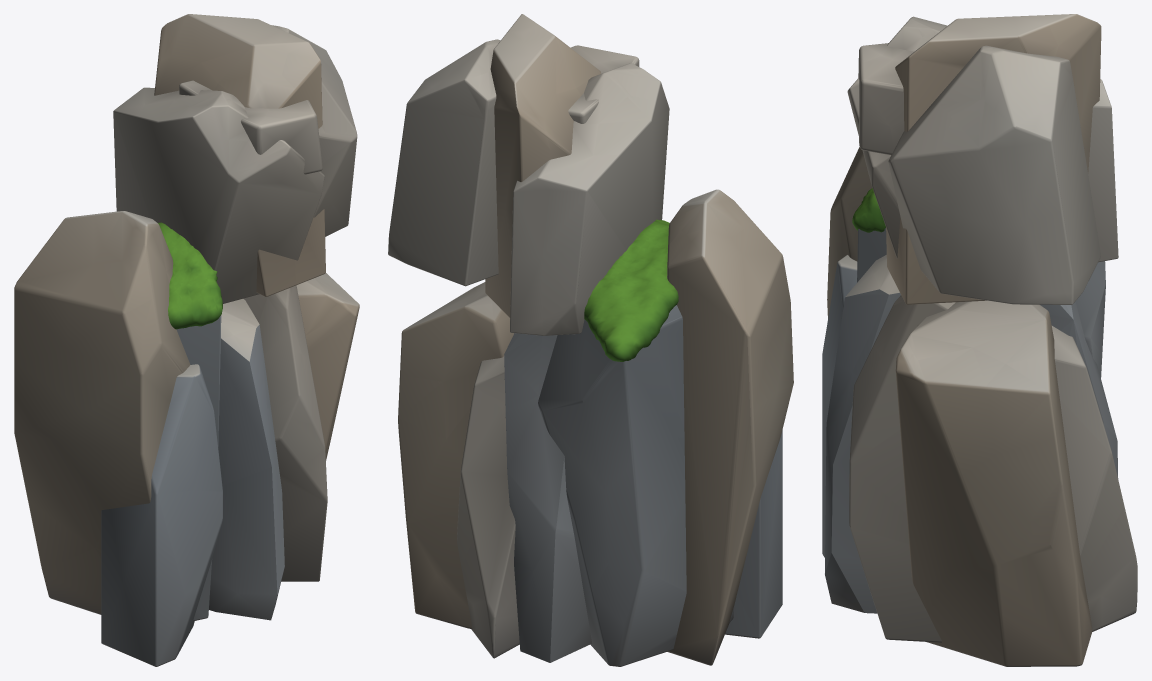
Rendered from glade_bluff_spur.glb.
The picture shows the model from 3 angles, left to right: view 1: azimuth 30°, elevation 25°; view 2: azimuth 150°, elevation 25°; view 3: azimuth 270°, elevation 25°; orthographic projection. The views are drawn at different scales.
Parts seen in each view (by area): view 1: glade_bluff_spur, moss; view 2: glade_bluff_spur, moss; view 3: glade_bluff_spur, moss.
Boxes of the visible parts, left/top/right/bottom form: glade_bluff_spur: left=14, top=14, right=359, bottom=666; moss: left=158, top=222, right=222, bottom=329; glade_bluff_spur: left=388, top=14, right=793, bottom=666; moss: left=584, top=219, right=678, bottom=361; glade_bluff_spur: left=822, top=14, right=1137, bottom=666; moss: left=852, top=188, right=885, bottom=232.
Size of the model in its own units: 19.85 by 31.97 by 14.61.
